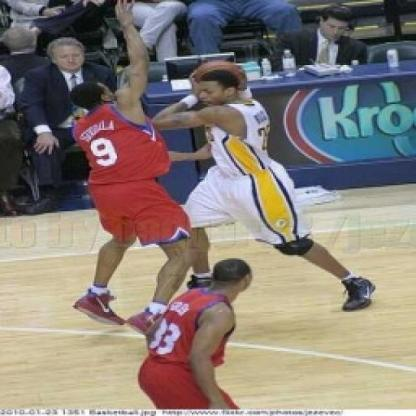basketball: (184, 54, 250, 105)
